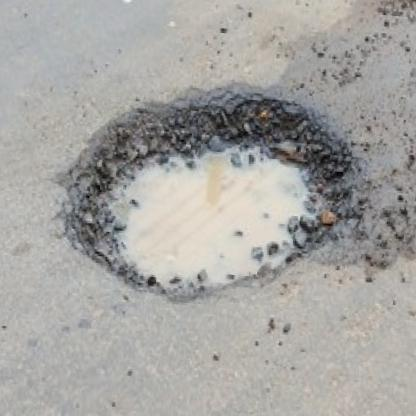pothole: (51, 72, 360, 318)
